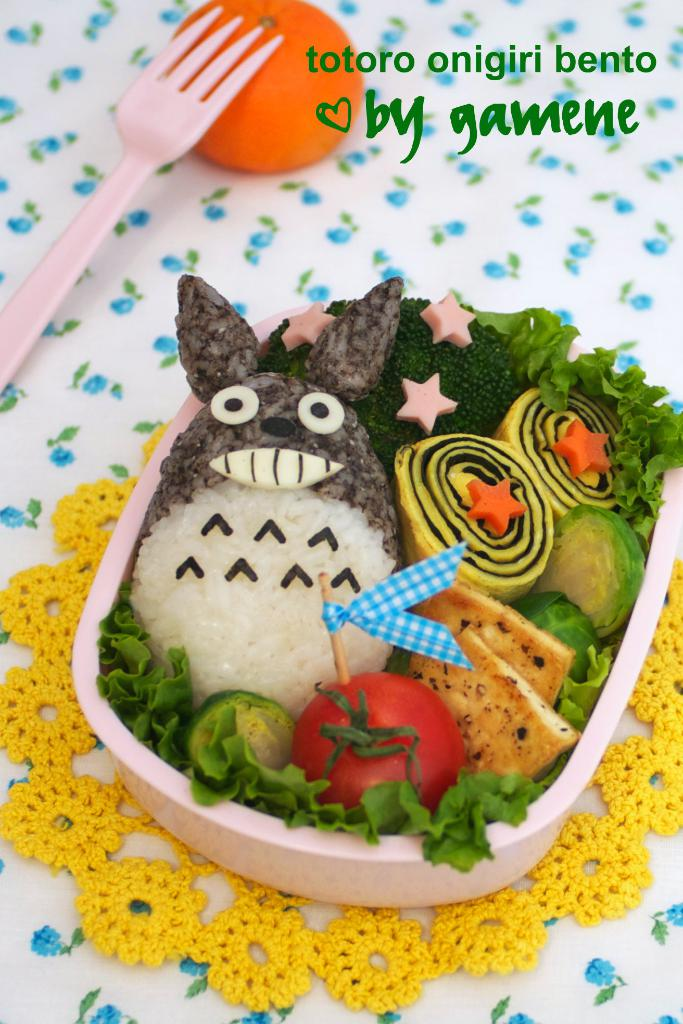Carrot: (464, 468, 528, 537)
